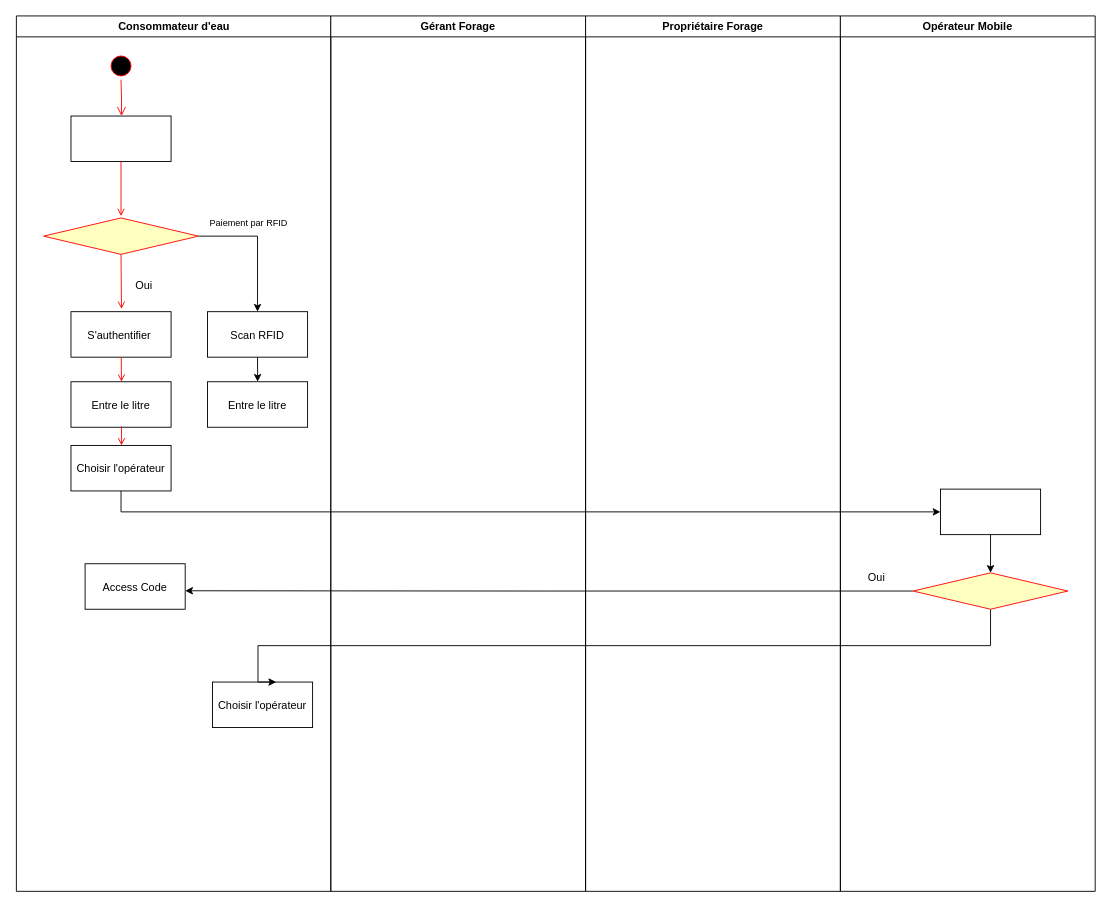
The diagram is 1111 pixels wide and 907 high, and some of its shapes have lost their labels. The shapes that lost their labels are listed below. From the top down, each one's centre as x and y in pixels, then its label:
At point (120, 138): "Choisir mode de paiement".
At point (120, 235): "Application Mobile ?".
At point (990, 511): "Traiter le Paiement".
At point (990, 590): "Réussite ?".
